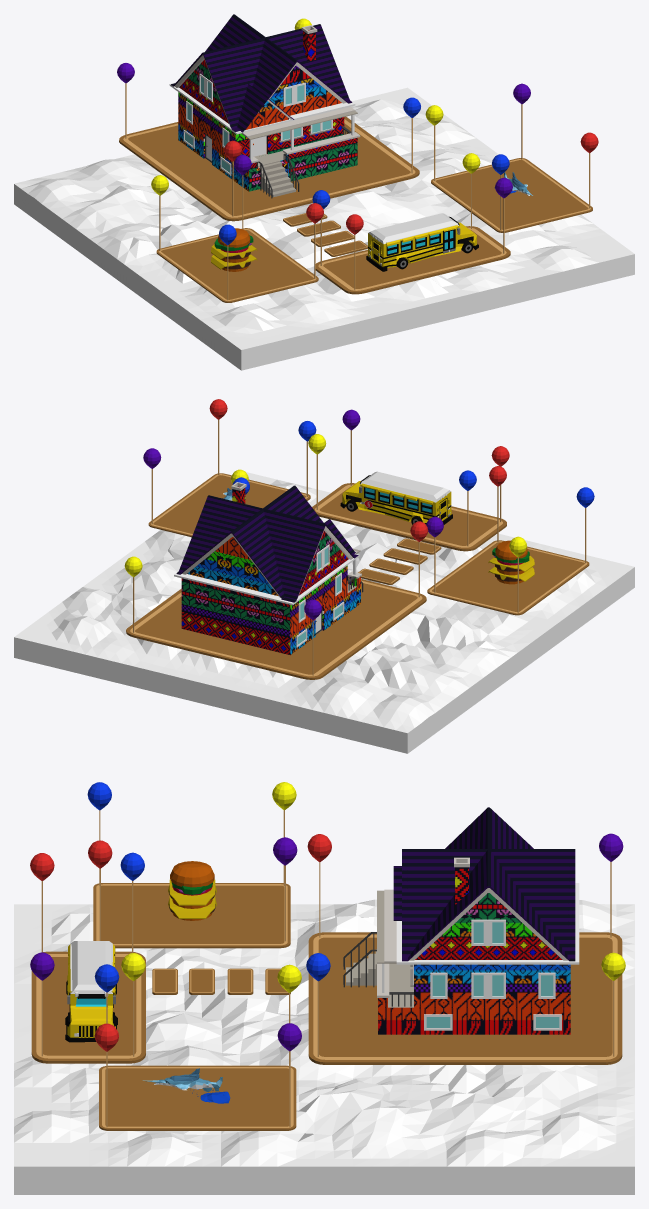
The picture shows the model from 3 angles, top to bottom: view 1: azimuth 30°, elevation 25°; view 2: azimuth 150°, elevation 25°; view 3: azimuth 270°, elevation 25°; orthographic projection. The views are drawn at different scales.
Visible parts, largest first — view 1: Cube.013, Cube.966, VEHICLES_SCHOOL_BUS, OBJRANDOM_HAMBURGER; view 2: Cube.013, Cube.966, VEHICLES_SCHOOL_BUS, OBJRANDOM_HAMBURGER; view 3: Cube.013, Cube.966, VEHICLES_SCHOOL_BUS, OBJRANDOM_HAMBURGER, ANIMAL_PEZ_ESPADA.
Part boxes in pixels (x1,y1,x2,y2): Cube.013: (14, 18, 634, 370); Cube.966: (169, 14, 360, 198); VEHICLES_SCHOOL_BUS: (366, 213, 478, 271); OBJRANDOM_HAMBURGER: (211, 228, 257, 271); Cube.013: (14, 399, 634, 753); Cube.966: (174, 482, 363, 655); VEHICLES_SCHOOL_BUS: (340, 471, 452, 524); OBJRANDOM_HAMBURGER: (488, 540, 534, 584); Cube.013: (14, 782, 634, 1194); Cube.966: (343, 807, 579, 1034); VEHICLES_SCHOOL_BUS: (65, 941, 117, 1042); OBJRANDOM_HAMBURGER: (168, 861, 216, 920); ANIMAL_PEZ_ESPADA: (143, 1068, 230, 1103).
Size of the model in its own units: 4000 by 1666 by 4000.
47 materials, 5 textured.
